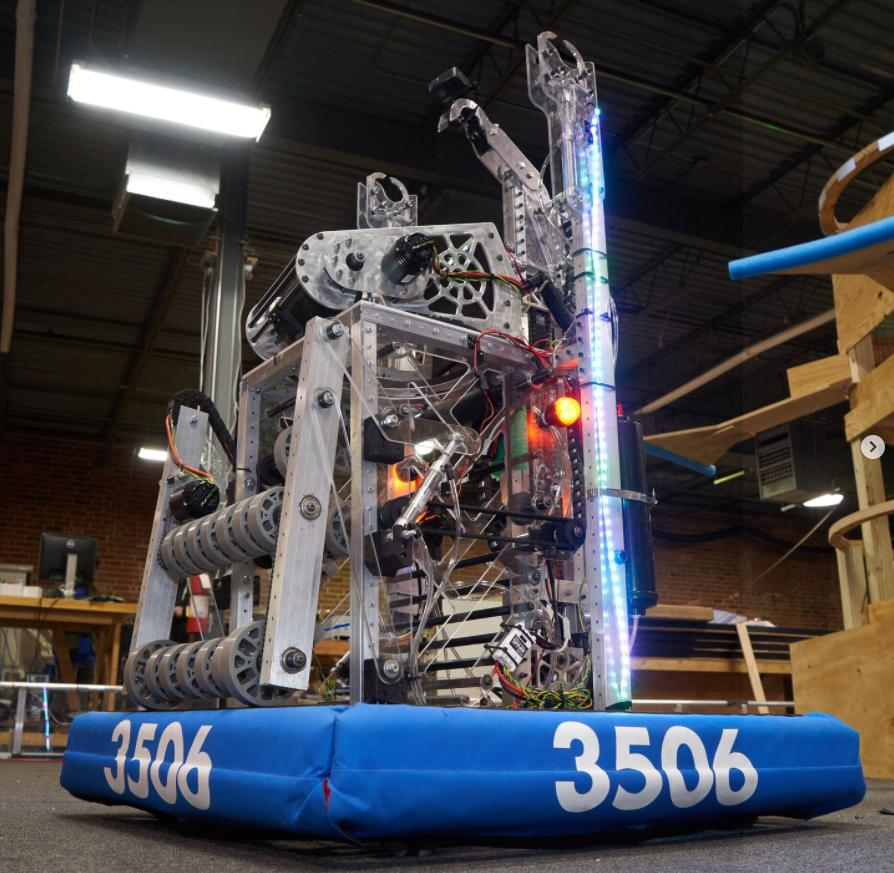robot: (57, 25, 875, 854)
